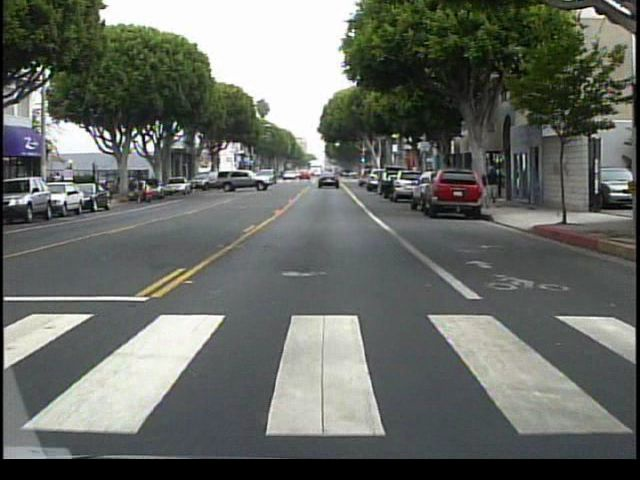person: (481, 168, 502, 212), (136, 177, 153, 209)
